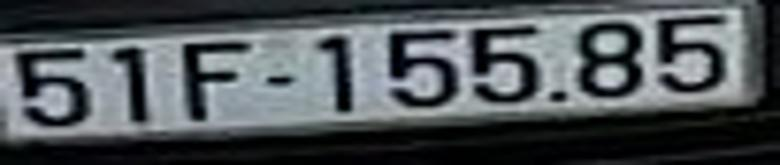-: (268, 77, 290, 85)
.: (552, 92, 565, 101)
1: (115, 49, 149, 125), (321, 35, 351, 113)
5: (16, 54, 92, 127), (389, 32, 455, 109), (661, 17, 725, 91), (473, 29, 537, 101)
8: (583, 21, 641, 98)
F: (184, 42, 249, 121)
